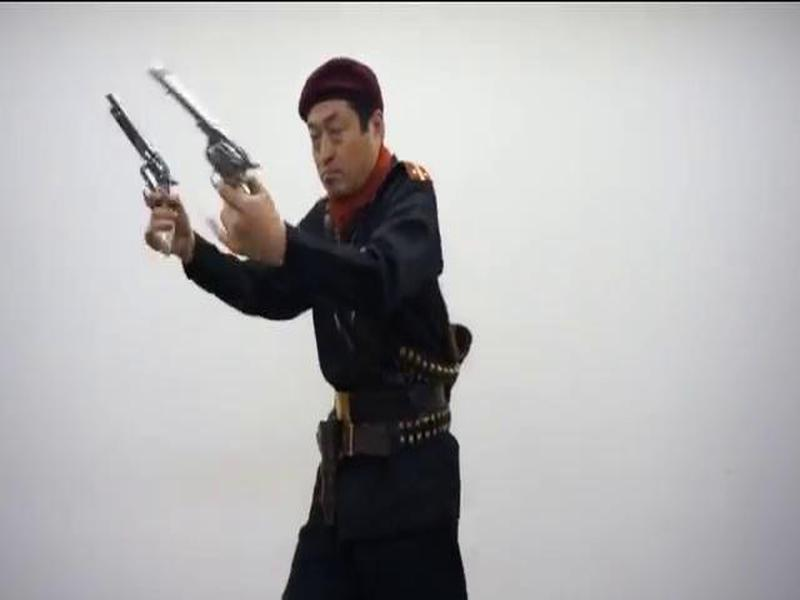Revolver: (144, 52, 272, 213), (77, 79, 184, 266)
